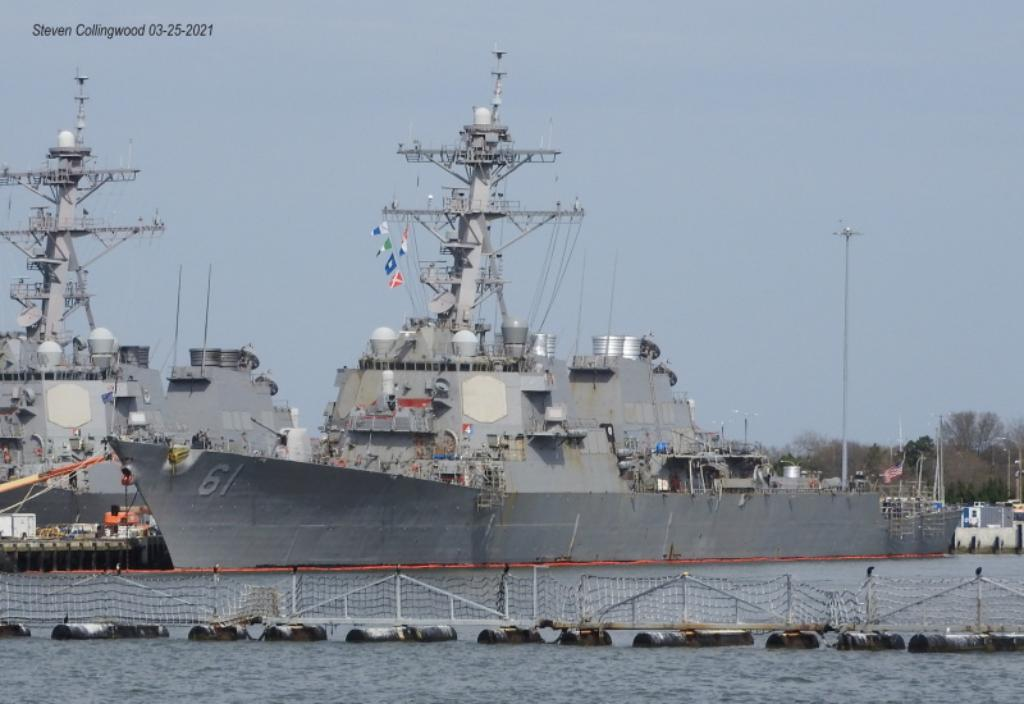Warship: (100, 46, 962, 568), (11, 60, 303, 562)
